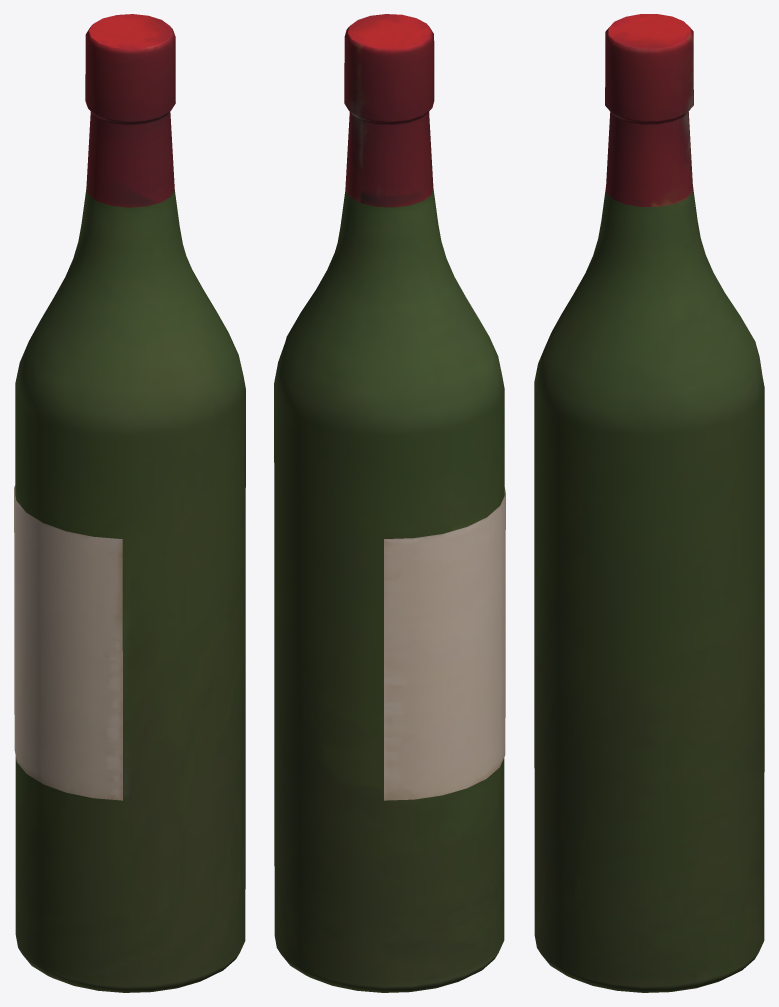
File: SM_Bottles_07.fbx
3 views of the same model, side by side, from view 1: azimuth 30°, elevation 25°; view 2: azimuth 150°, elevation 25°; view 3: azimuth 270°, elevation 25° (orthographic).
Visible parts, largest first — view 1: SM_Bottles_07_LOD0; view 2: SM_Bottles_07_LOD0; view 3: SM_Bottles_07_LOD0.
Boxes of the visible parts, bbox=[...] form: SM_Bottles_07_LOD0: bbox=[14, 14, 245, 992]; SM_Bottles_07_LOD0: bbox=[274, 14, 505, 992]; SM_Bottles_07_LOD0: bbox=[534, 14, 764, 992].
Bounding box in the file's own units: 6.74 × 6.7 × 29.48.
